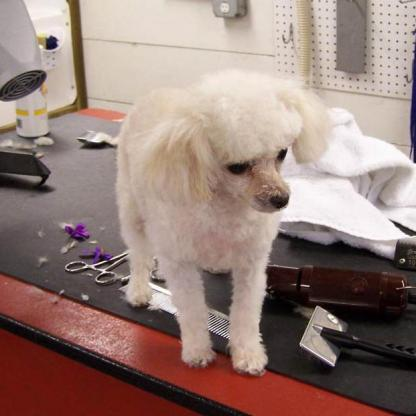miniature_poodle: (113, 67, 338, 376)
